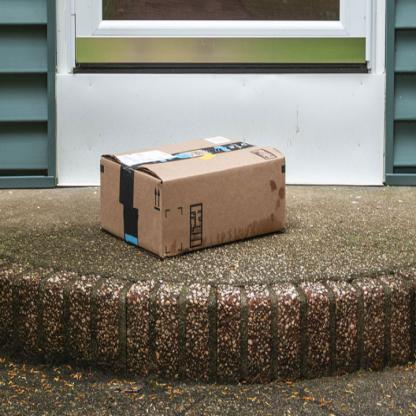package: (99, 135, 289, 261)
